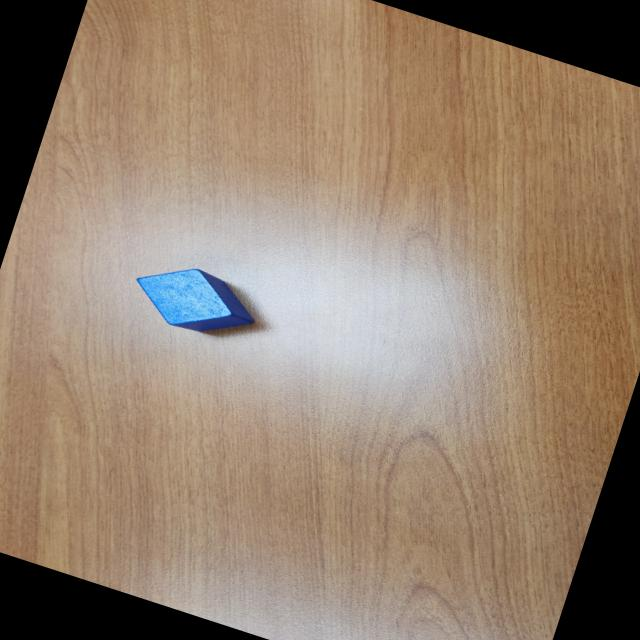blue: (125, 252, 266, 351)
